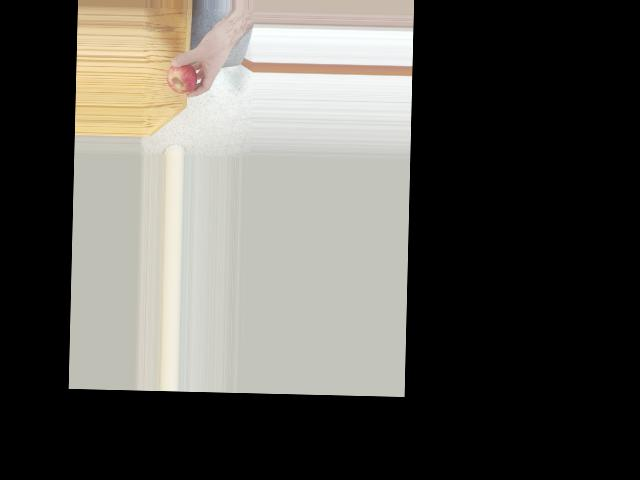apple: (164, 59, 200, 95)
